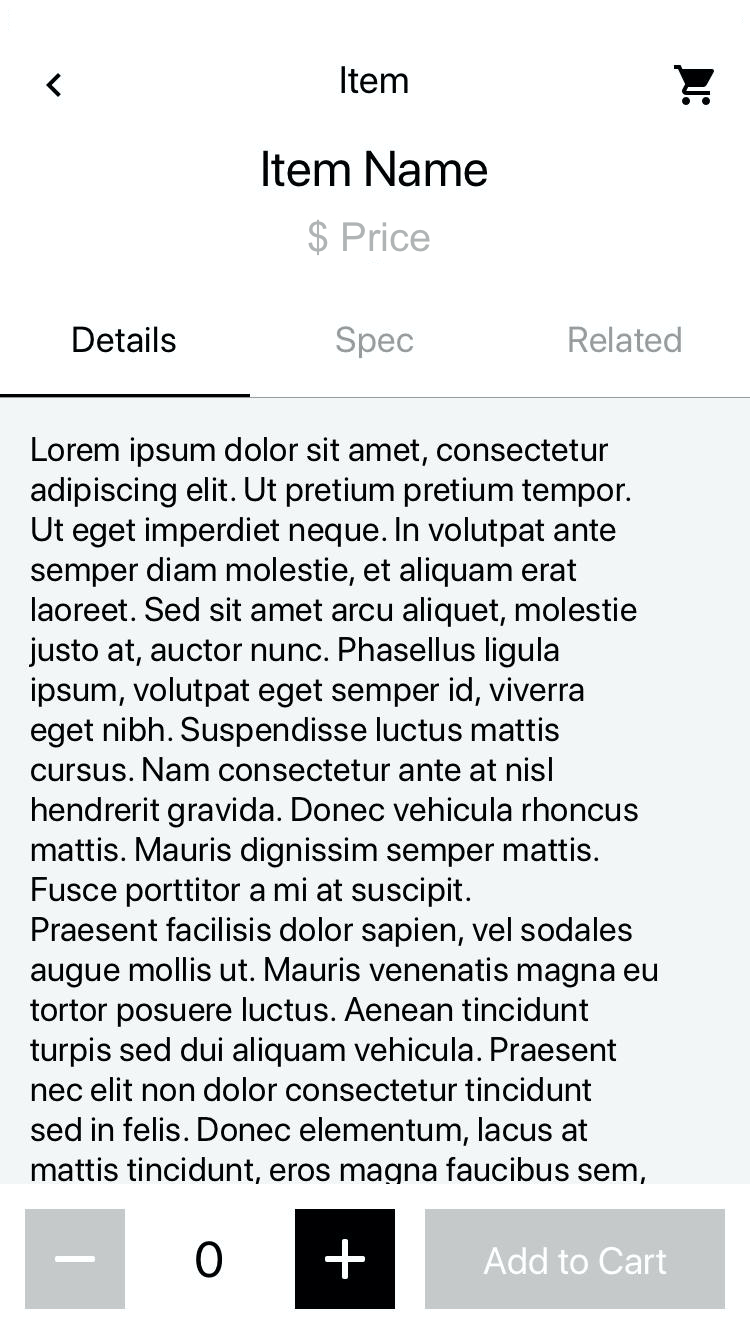Icon: (295, 1208, 396, 1310), (26, 1208, 127, 1310), (673, 65, 715, 107), (47, 74, 64, 97)
Text: (29, 436, 659, 1184), (263, 149, 489, 188), (308, 220, 431, 257), (568, 326, 682, 354), (73, 326, 177, 355), (335, 326, 415, 359), (341, 66, 409, 94), (196, 1241, 223, 1278)
TextButton: (425, 1208, 726, 1310)
